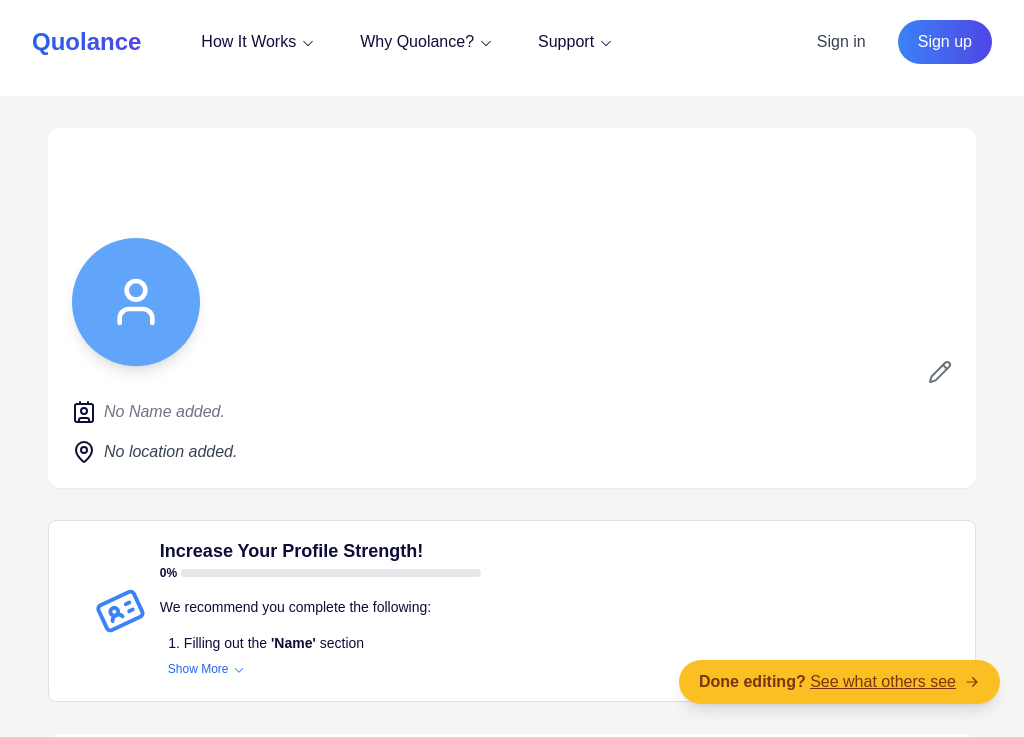
Freelancer Flow › Error Flow for Edit Header Profile Component
Click the button with test id "profile-header-edit-btn" at (940, 372), box x1=920 y1=352 x2=960 y2=392
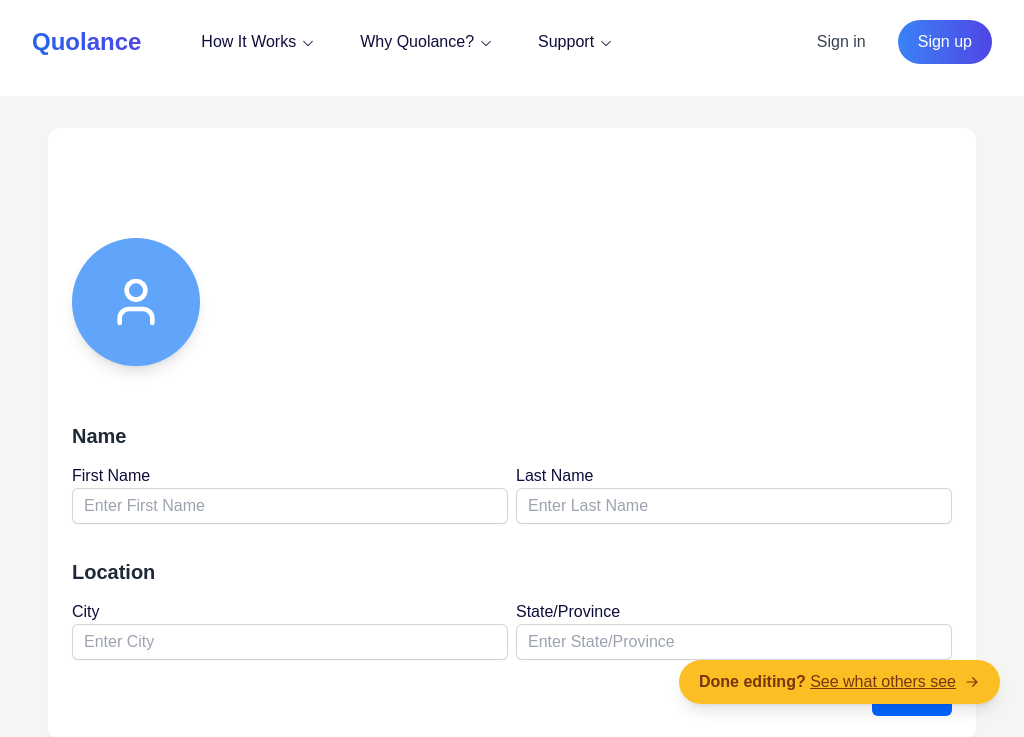
Scroll
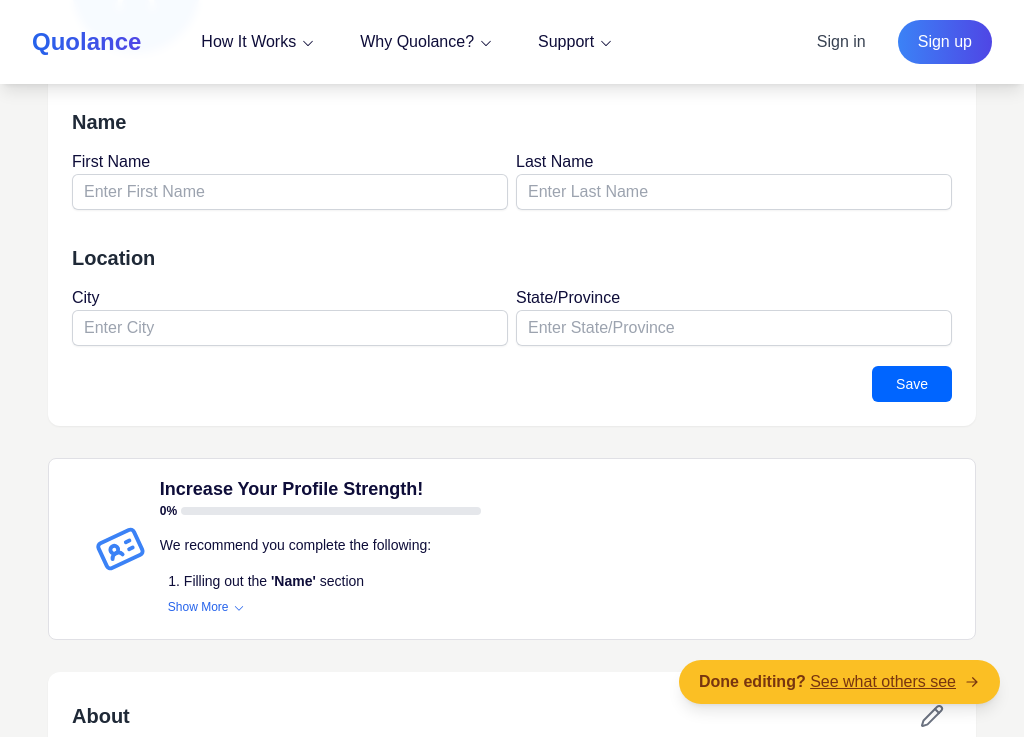
Click the button with test id "profile-header-save-btn" at (912, 384), box x1=872 y1=366 x2=952 y2=402
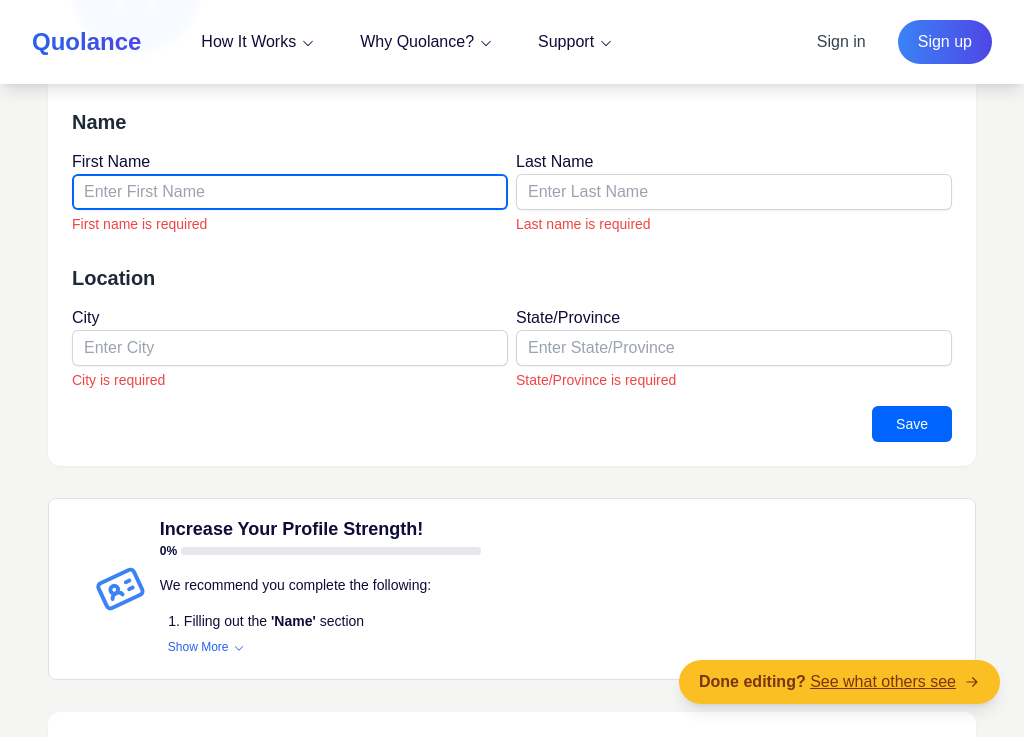
Expected: the text "First name is required" is shown, x1=72 y1=216 x2=207 y2=232
Expected: the text "Last name is required" is shown, x1=516 y1=216 x2=651 y2=232
Expected: the text "City is required" is shown, x1=72 y1=372 x2=165 y2=388
